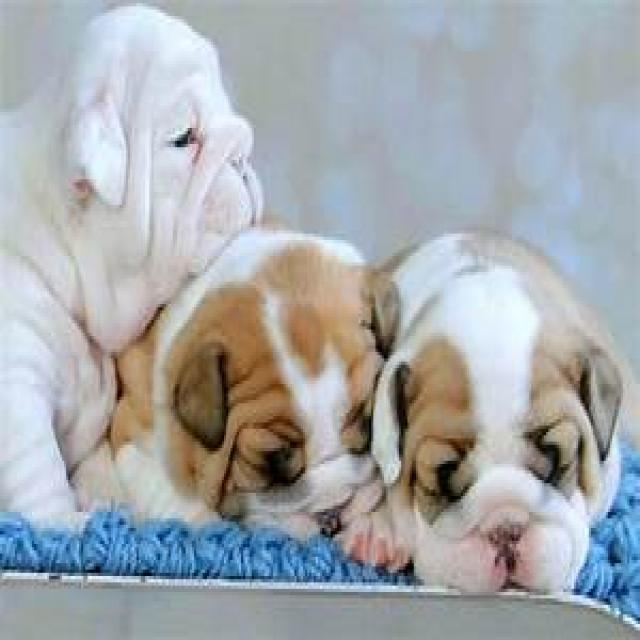dog: (0, 3, 265, 576), (326, 230, 640, 608), (75, 230, 405, 570)
